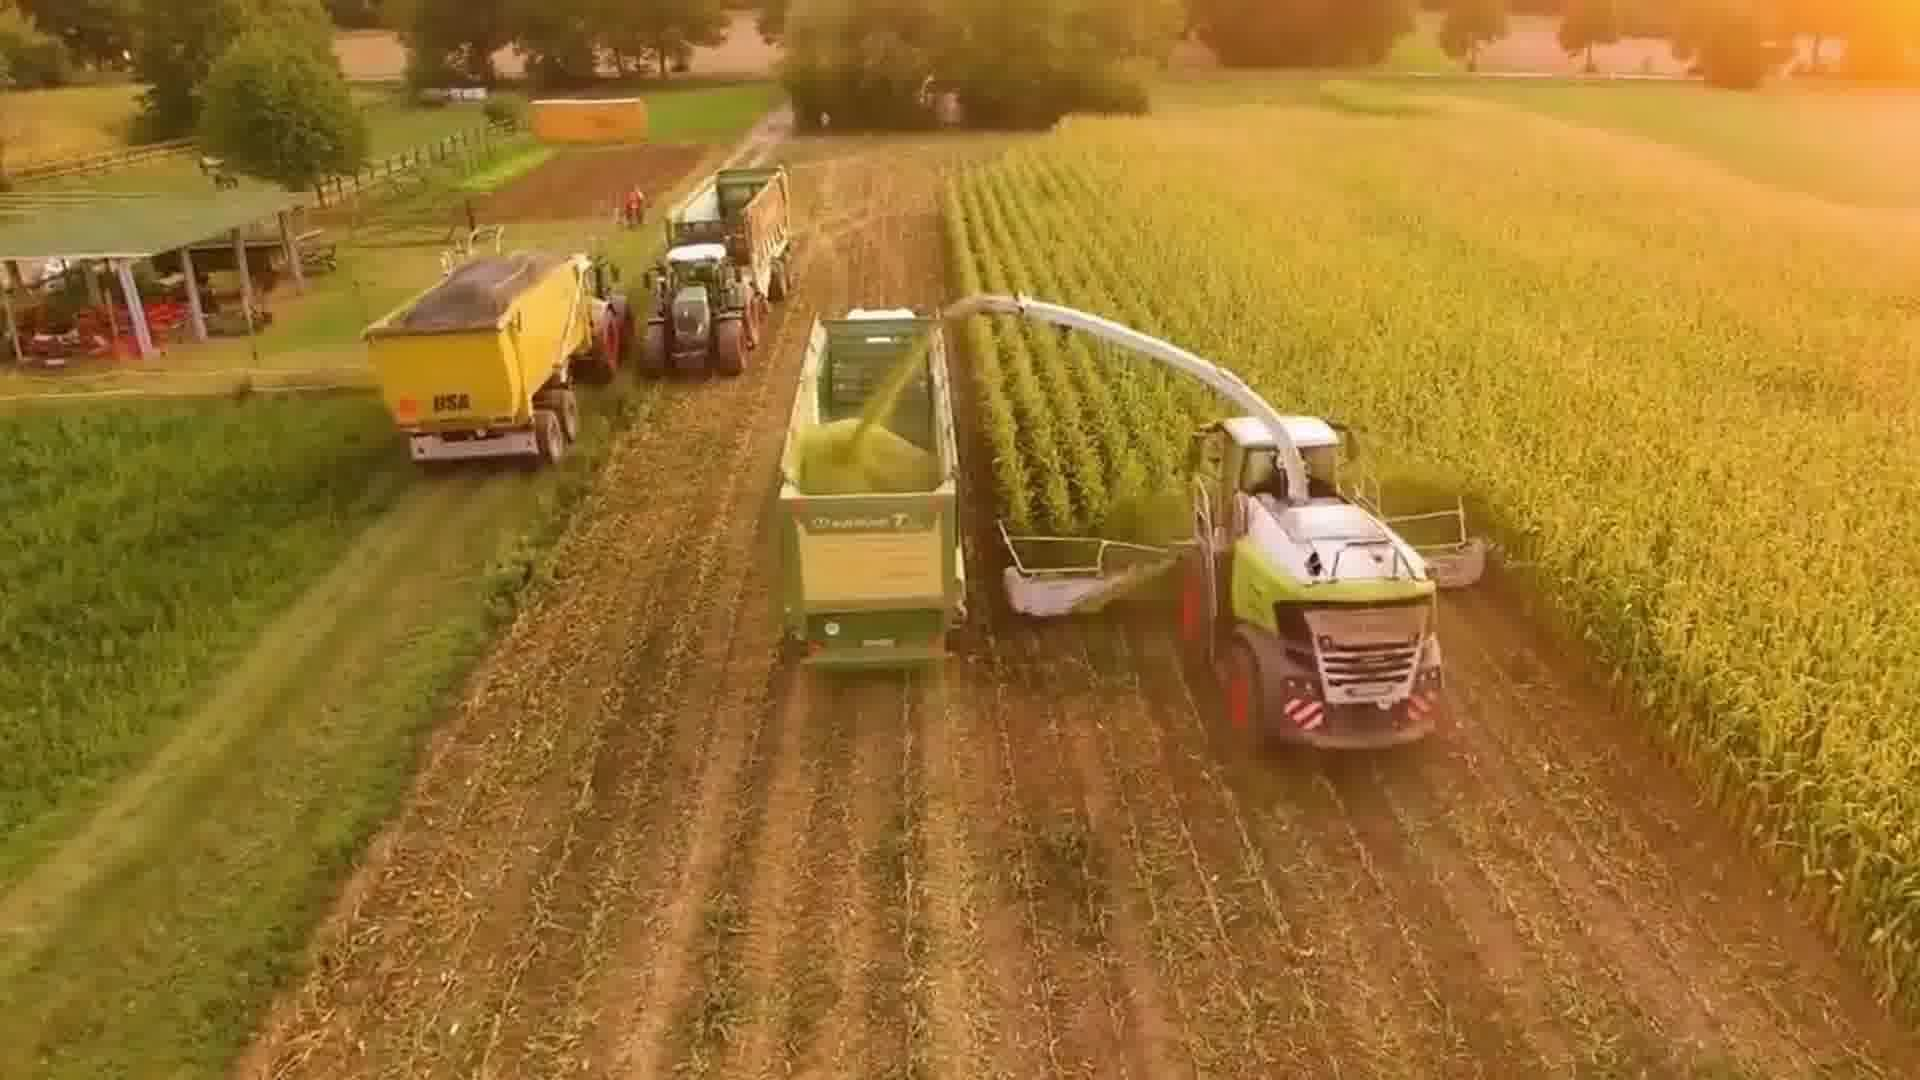combine harvester: (950, 281, 1499, 760)
tractor: (637, 241, 764, 377), (564, 253, 631, 386)
trailer: (766, 310, 979, 677), (360, 241, 599, 464), (660, 161, 796, 296)
